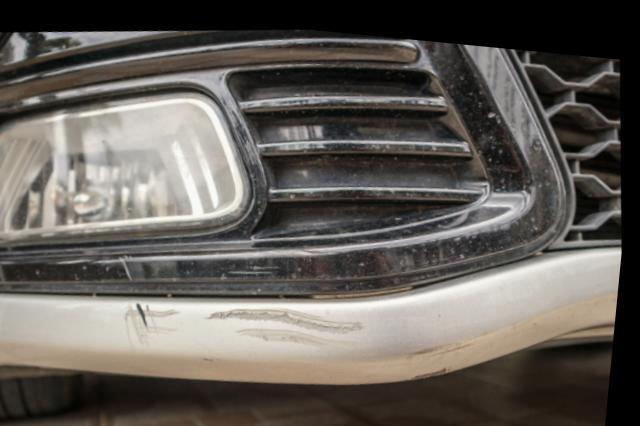scratch: (130, 301, 381, 344)
